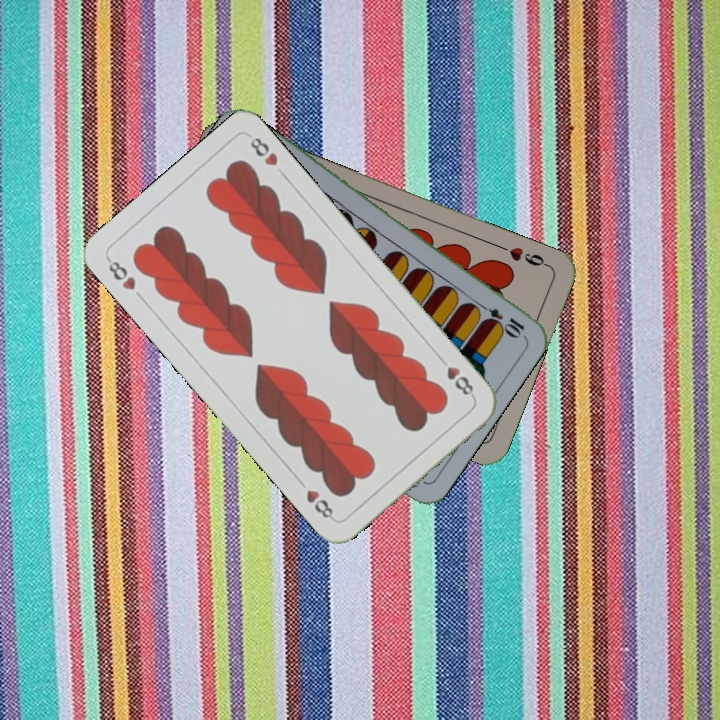E10: (472, 298, 528, 339)
H8: (434, 352, 477, 400), (103, 254, 138, 293)
H9: (495, 241, 552, 270)
